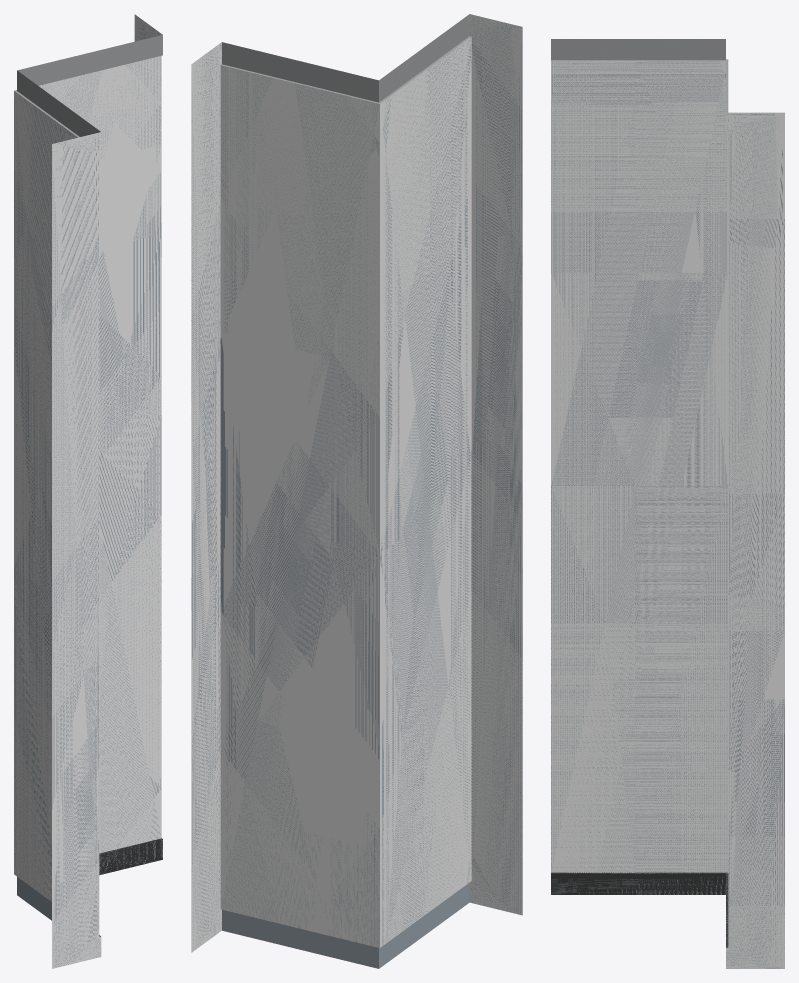
File: Corner_os_plinth_075x075x025x4.dae
3 renders of one model, left to right at view 1: azimuth 30°, elevation 25°; view 2: azimuth 150°, elevation 25°; view 3: azimuth 270°, elevation 25°, orthographic. The views are drawn at different scales.
Visible parts, largest first — view 1: group_0 (×3); view 2: group_0 (×3); view 3: group_0 (×3).
Boxes of the visible parts, x1=… form: group_0 (×3): x1=14, y1=14, x2=162, y2=968; group_0 (×3): x1=191, y1=14, x2=522, y2=968; group_0 (×3): x1=551, y1=39, x2=784, y2=968.
Bounding box in the file's own units: 38.98 × 38.98 × 157.
